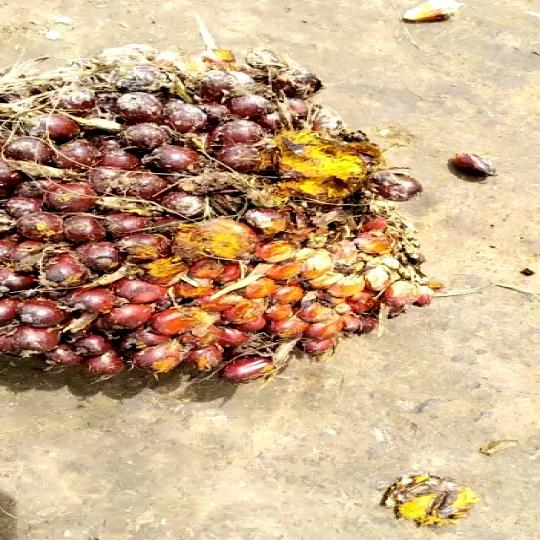kurang masak: (0, 34, 498, 387)
